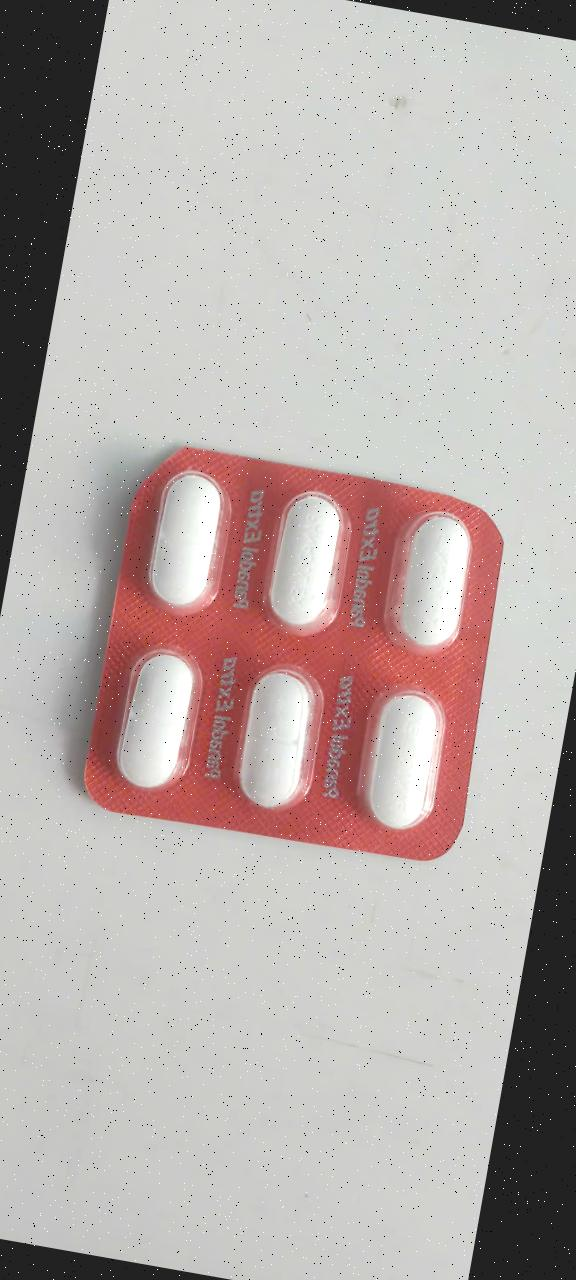Full: (376, 499, 491, 660), (248, 481, 363, 642), (343, 674, 458, 835), (215, 654, 330, 815), (96, 638, 211, 799), (125, 464, 240, 625)
